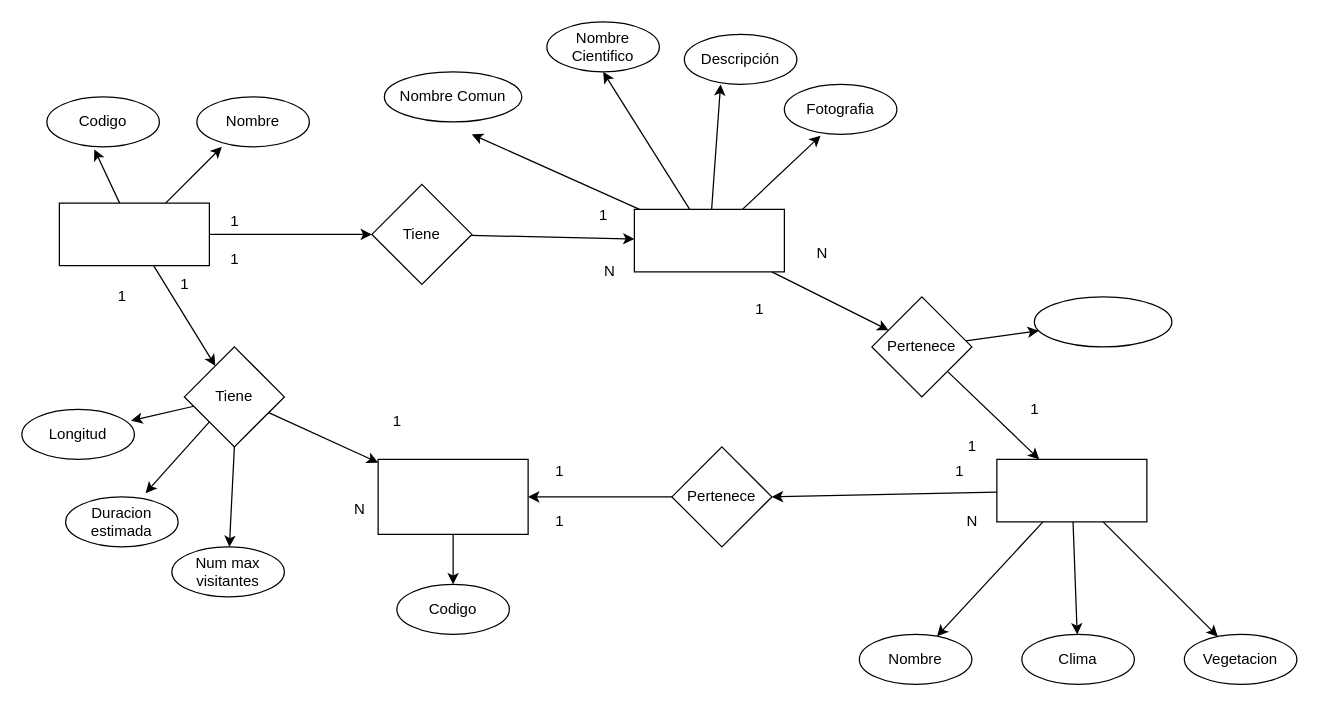
Image size: 1319x706. Some labels were removed from this diagram. Here are the shapes that lost their labels. From the top down, the box of each, then its label:
(58, 202, 209, 266): Zoologico
(633, 208, 784, 272): Especie
(1033, 296, 1172, 347): Indice vulnerabilidad
(377, 458, 528, 534): Itinerario
(996, 458, 1147, 522): Habitat
